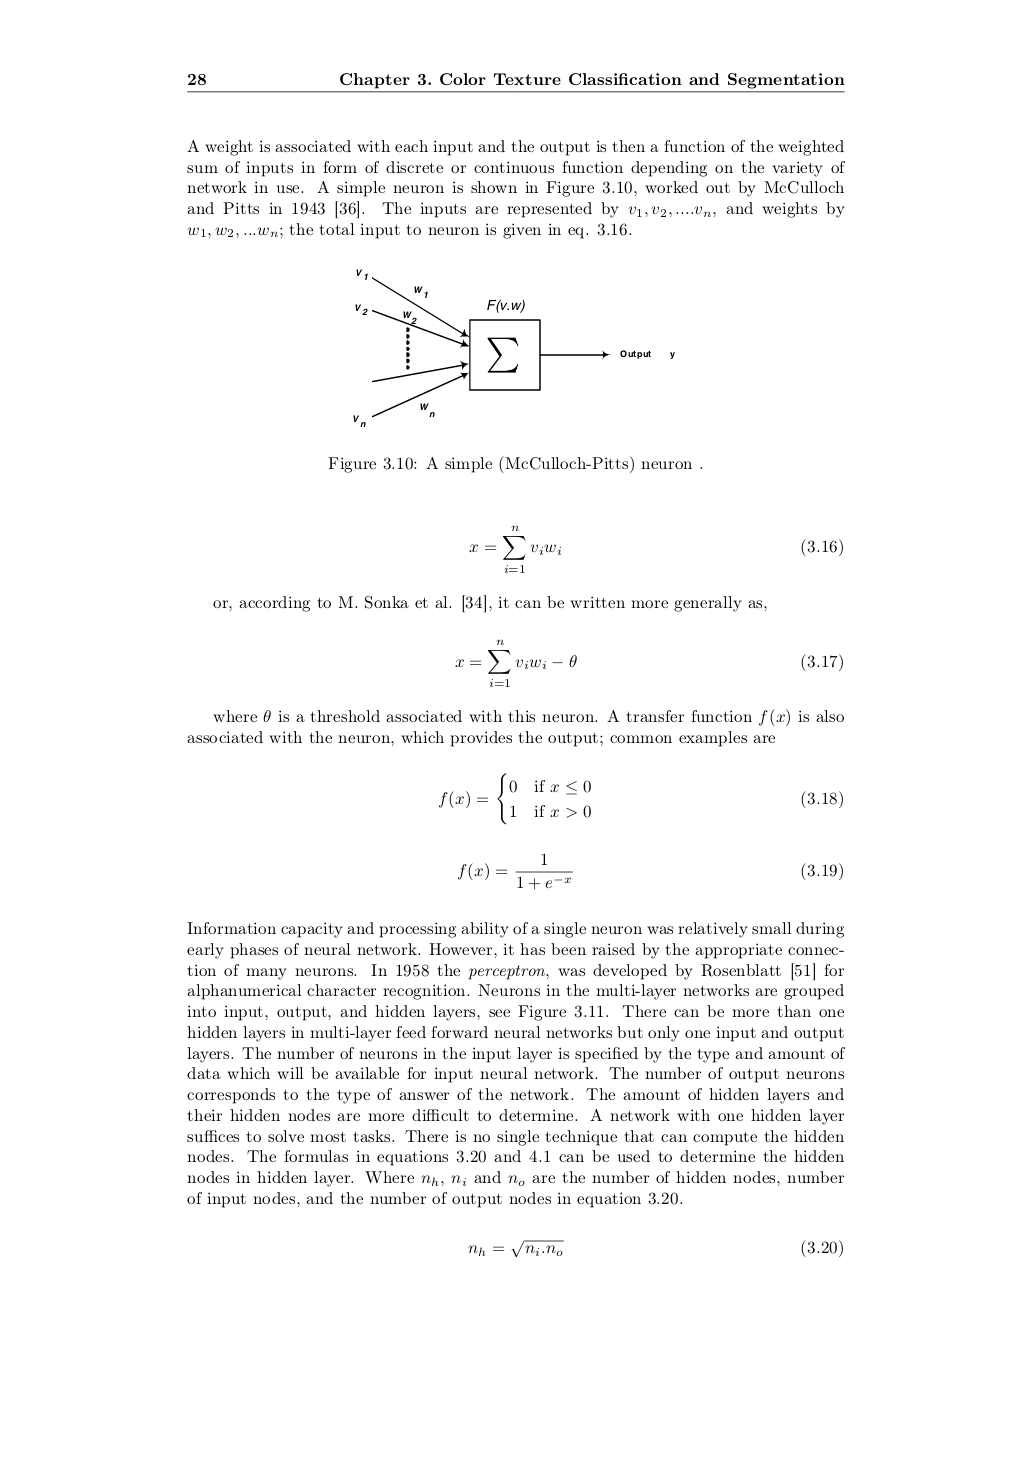figure: (353, 268, 674, 427)
formula: (439, 772, 842, 825), (455, 639, 842, 686), (469, 525, 842, 572), (457, 852, 842, 890), (468, 1238, 842, 1258)
